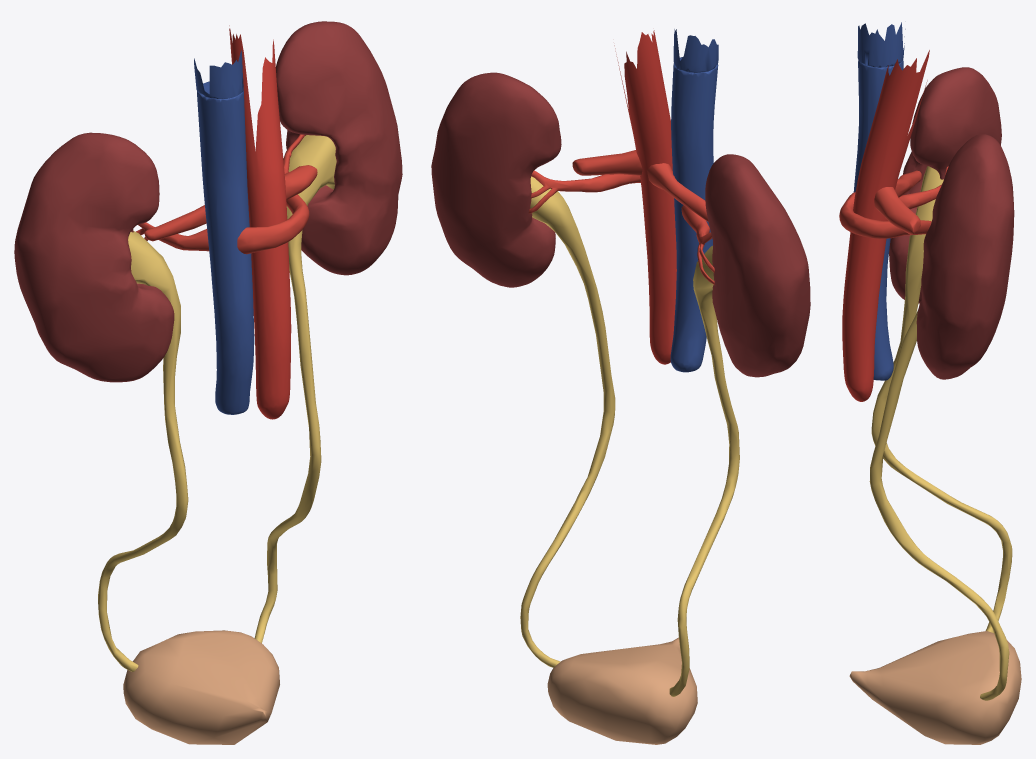
Rendered from urinary.glb.
The picture shows the model from 3 angles, left to right: view 1: azimuth 30°, elevation 25°; view 2: azimuth 150°, elevation 25°; view 3: azimuth 270°, elevation 25°; orthographic projection. The views are drawn at different scales.
Parts seen in each view (by area): view 1: kidney, ivc, bladder, ureter, aorta, vessels; view 2: kidney, ureter, bladder, ivc, aorta, vessels; view 3: kidney, bladder, aorta, ureter, ivc, vessels.
Part boxes in pixels (x1,y1,x2,y2): kidney: (14,21,402,382); ivc: (194,50,254,414); bladder: (123,630,279,744); ureter: (98,135,336,671); aorta: (229,25,291,419); vessels: (136,134,317,254); kidney: (431,72,810,377); ureter: (520,176,739,696); bladder: (547,637,697,744); ivc: (670,29,718,372); aorta: (614,30,676,364); vessels: (528,150,714,284); kidney: (889,67,1014,379); bladder: (849,631,1021,744); aorta: (842,50,929,401); ureter: (869,166,1012,700); ivc: (853,22,905,380); vessels: (839,166,948,238).
Bounding box in the file's own units: 1.42 × 2.6 × 0.6077.
